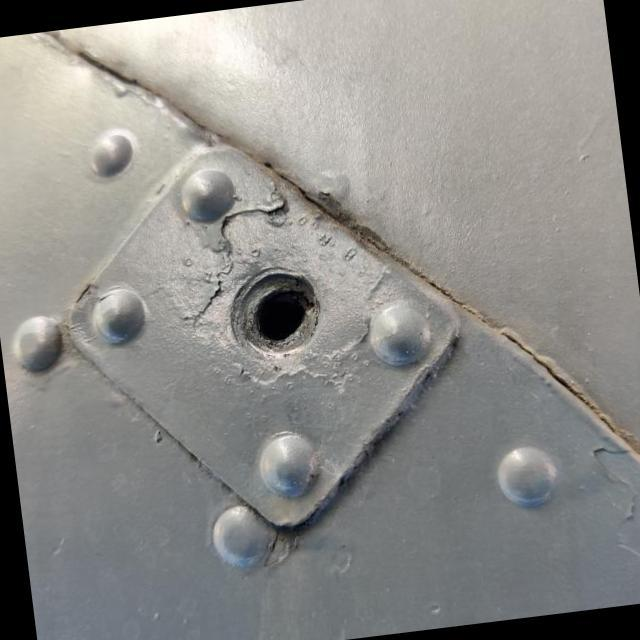Fastener Damage: (187, 228, 367, 405)
